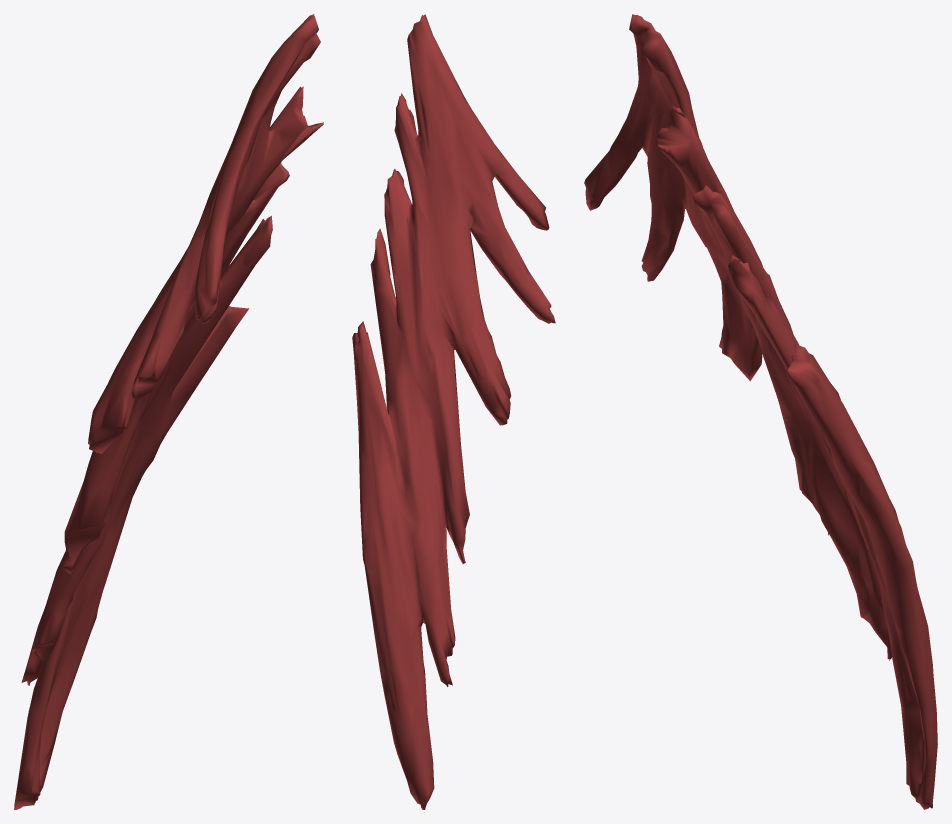
The model's file is semispinalis-colli-muscle-r.glb.
The picture shows the model from 3 angles, left to right: view 1: azimuth 30°, elevation 25°; view 2: azimuth 150°, elevation 25°; view 3: azimuth 270°, elevation 25°; orthographic projection. The views are drawn at different scales.
Parts seen in each view (by area): view 1: Semispinalis colli muscle.r; view 2: Semispinalis colli muscle.r; view 3: Semispinalis colli muscle.r.
Boxes of the visible parts, left/top/right/bottom form: Semispinalis colli muscle.r: left=14, top=14, right=323, bottom=809; Semispinalis colli muscle.r: left=352, top=14, right=555, bottom=809; Semispinalis colli muscle.r: left=584, top=14, right=937, bottom=809.
Bounding box in the file's own units: 0.0339 × 0.1425 × 0.0527.
